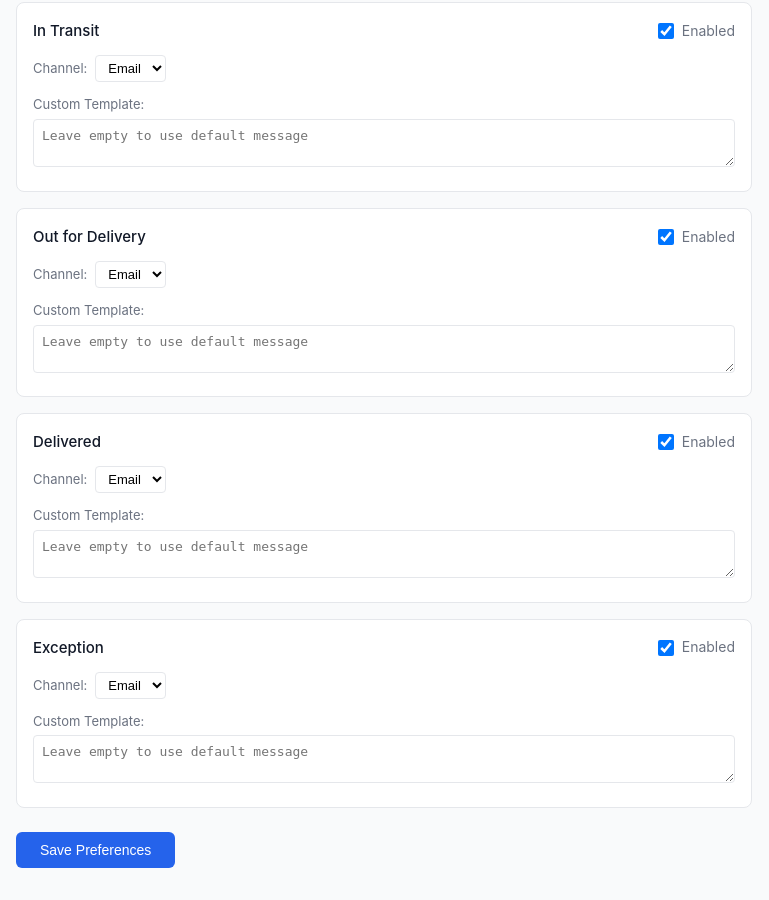
Test: NotificationSettings › shows success message after saving
This screenshot has width=769, height=900.
(page scrolled)
Click the button with test id "save-button".
click(96, 850)  # box [16,832,175,868]
(page scrolled)
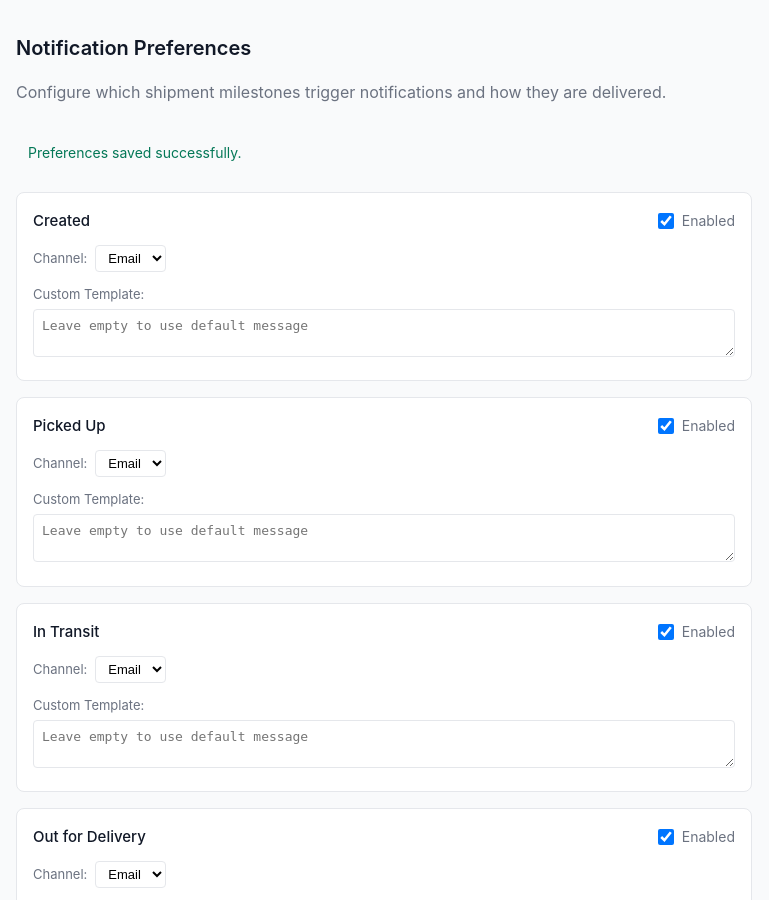
Expected: the text "Preferences saved successfully." is shown, [28,144,242,161]
